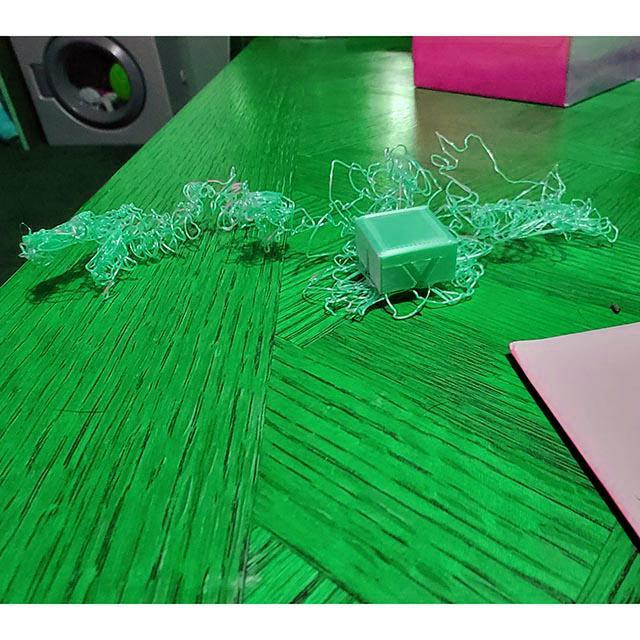Spaghetti: (14, 162, 299, 306), (294, 128, 492, 328), (488, 160, 624, 248)
